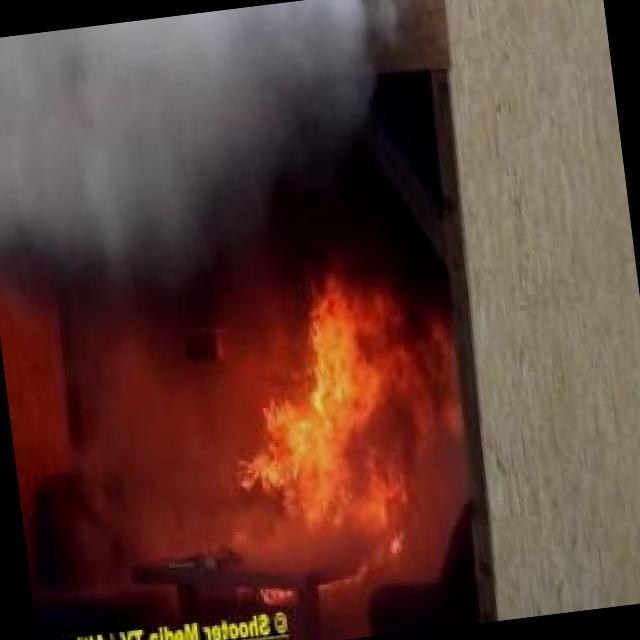fire: (201, 246, 477, 583)
